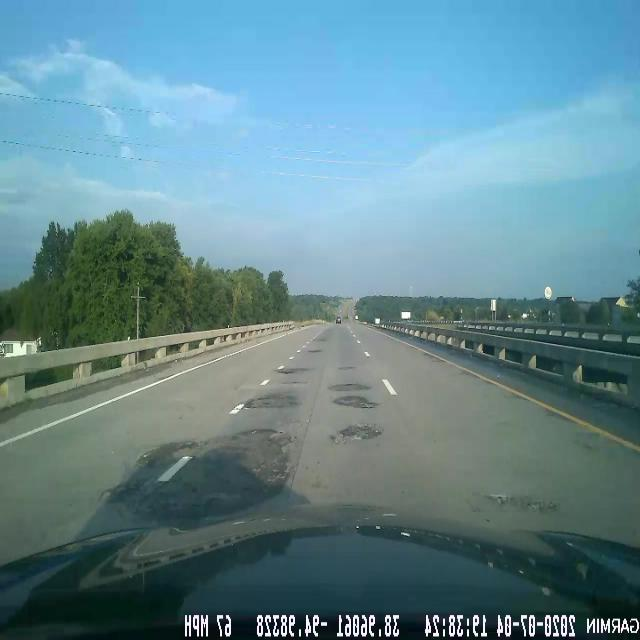pothole: (94, 413, 302, 527), (473, 486, 562, 520), (232, 388, 312, 420), (325, 415, 383, 450), (325, 390, 383, 415)
